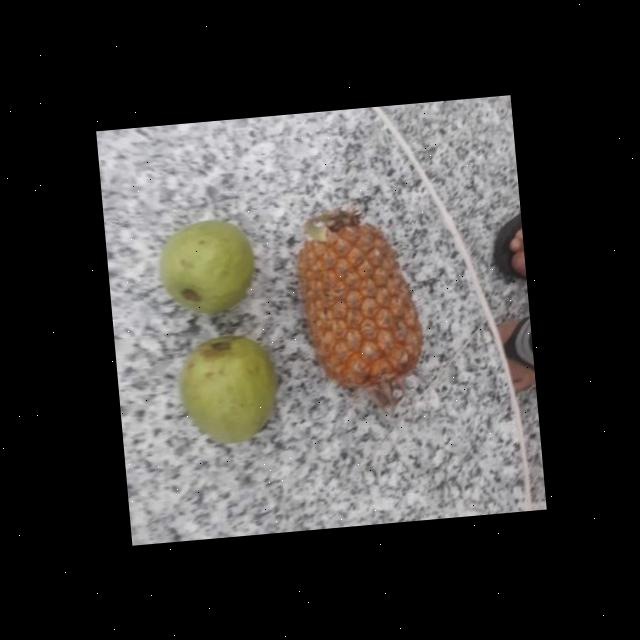guava: (175, 328, 276, 447), (156, 213, 258, 319)
pineapple: (289, 192, 428, 398)
